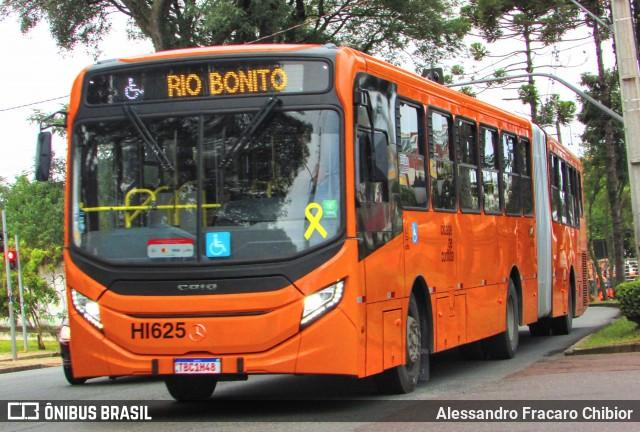RIO BONITO: (160, 65, 290, 98)
